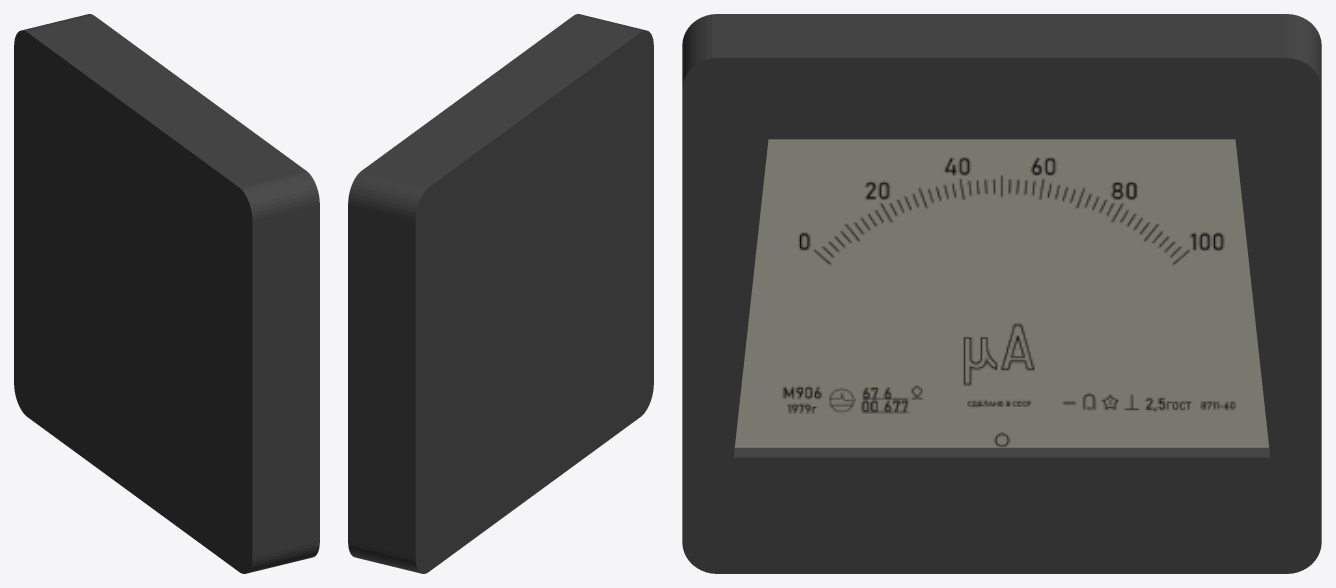
The model's file is Шкала (статичная).fbx.
3 views of the same model, side by side, from view 1: azimuth 30°, elevation 25°; view 2: azimuth 150°, elevation 25°; view 3: azimuth 270°, elevation 25° (orthographic). The views are drawn at different scales.
Visible parts, largest first — view 1: Показания; view 2: Показания; view 3: Показания, Спидометр.
Boxes of the visible parts, left/top/right/bottom form: Показания: left=14, top=14, right=319, bottom=573; Показания: left=348, top=14, right=653, bottom=573; Показания: left=682, top=14, right=1321, bottom=573; Спидометр: left=734, top=139, right=1269, bottom=447.
Bounding box in the file's own units: 1.5 × 8.17 × 9.18.
Materials: 2 (1 with a texture image).
